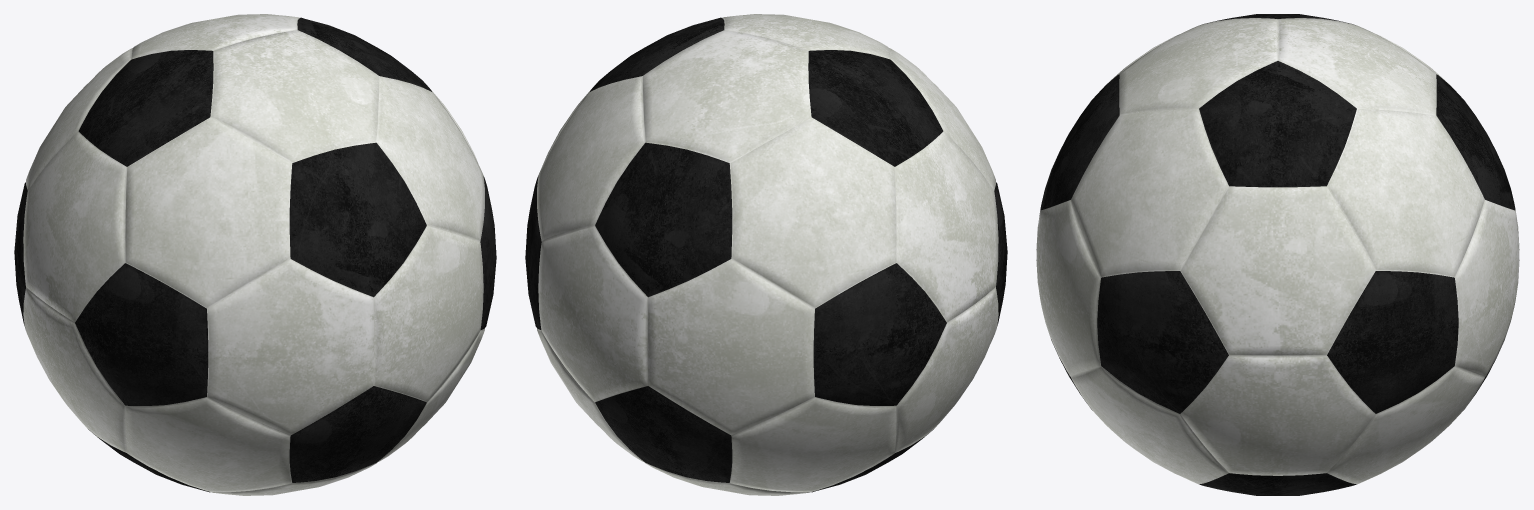
File: ball.glb
3 views of the same model, side by side, from view 1: azimuth 30°, elevation 25°; view 2: azimuth 150°, elevation 25°; view 3: azimuth 270°, elevation 25° (orthographic).
Visible parts, largest first — view 1: Soccer Ball Optimized; view 2: Soccer Ball Optimized; view 3: Soccer Ball Optimized.
Part boxes in pixels (x1,y1,x2,y2): Soccer Ball Optimized: (14,14,496,495); Soccer Ball Optimized: (525,14,1007,495); Soccer Ball Optimized: (1036,14,1519,495).
Size of the model in its own units: 0.22 by 0.22 by 0.22.
Materials: 1 (1 with a texture image).
